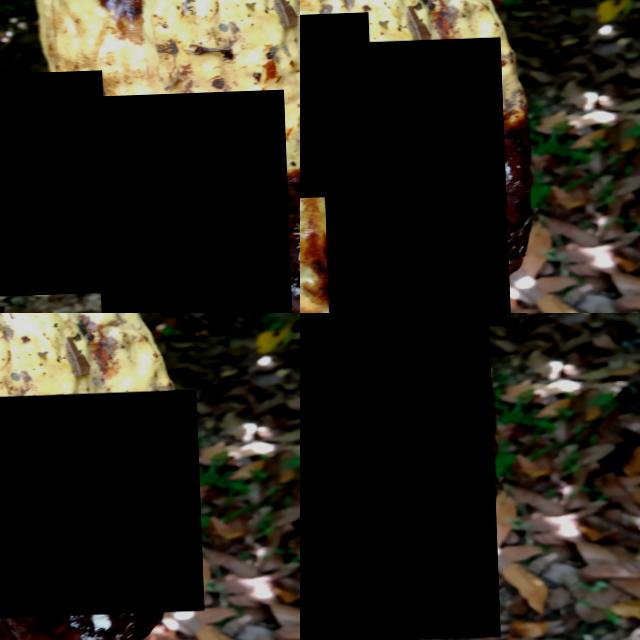Monilia: (300, 313, 496, 640), (318, 40, 510, 313), (0, 393, 200, 621), (92, 92, 290, 313)
Sana: (0, 71, 106, 297), (300, 14, 372, 201)
